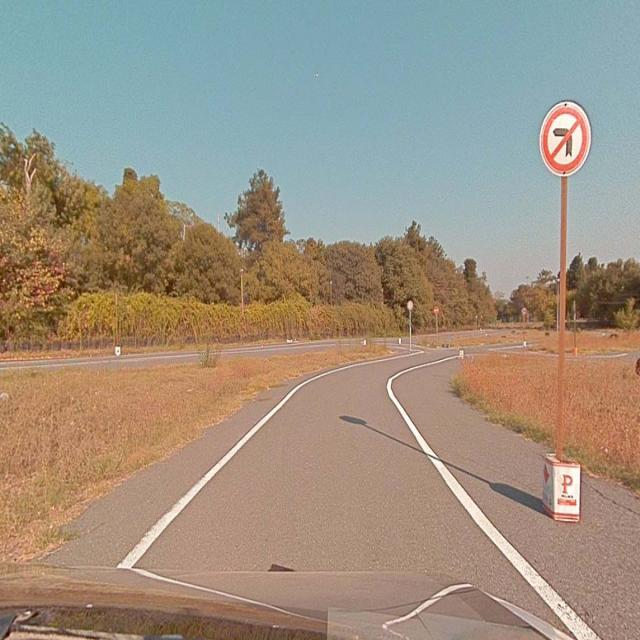soladonulmez: (541, 100, 591, 176)
